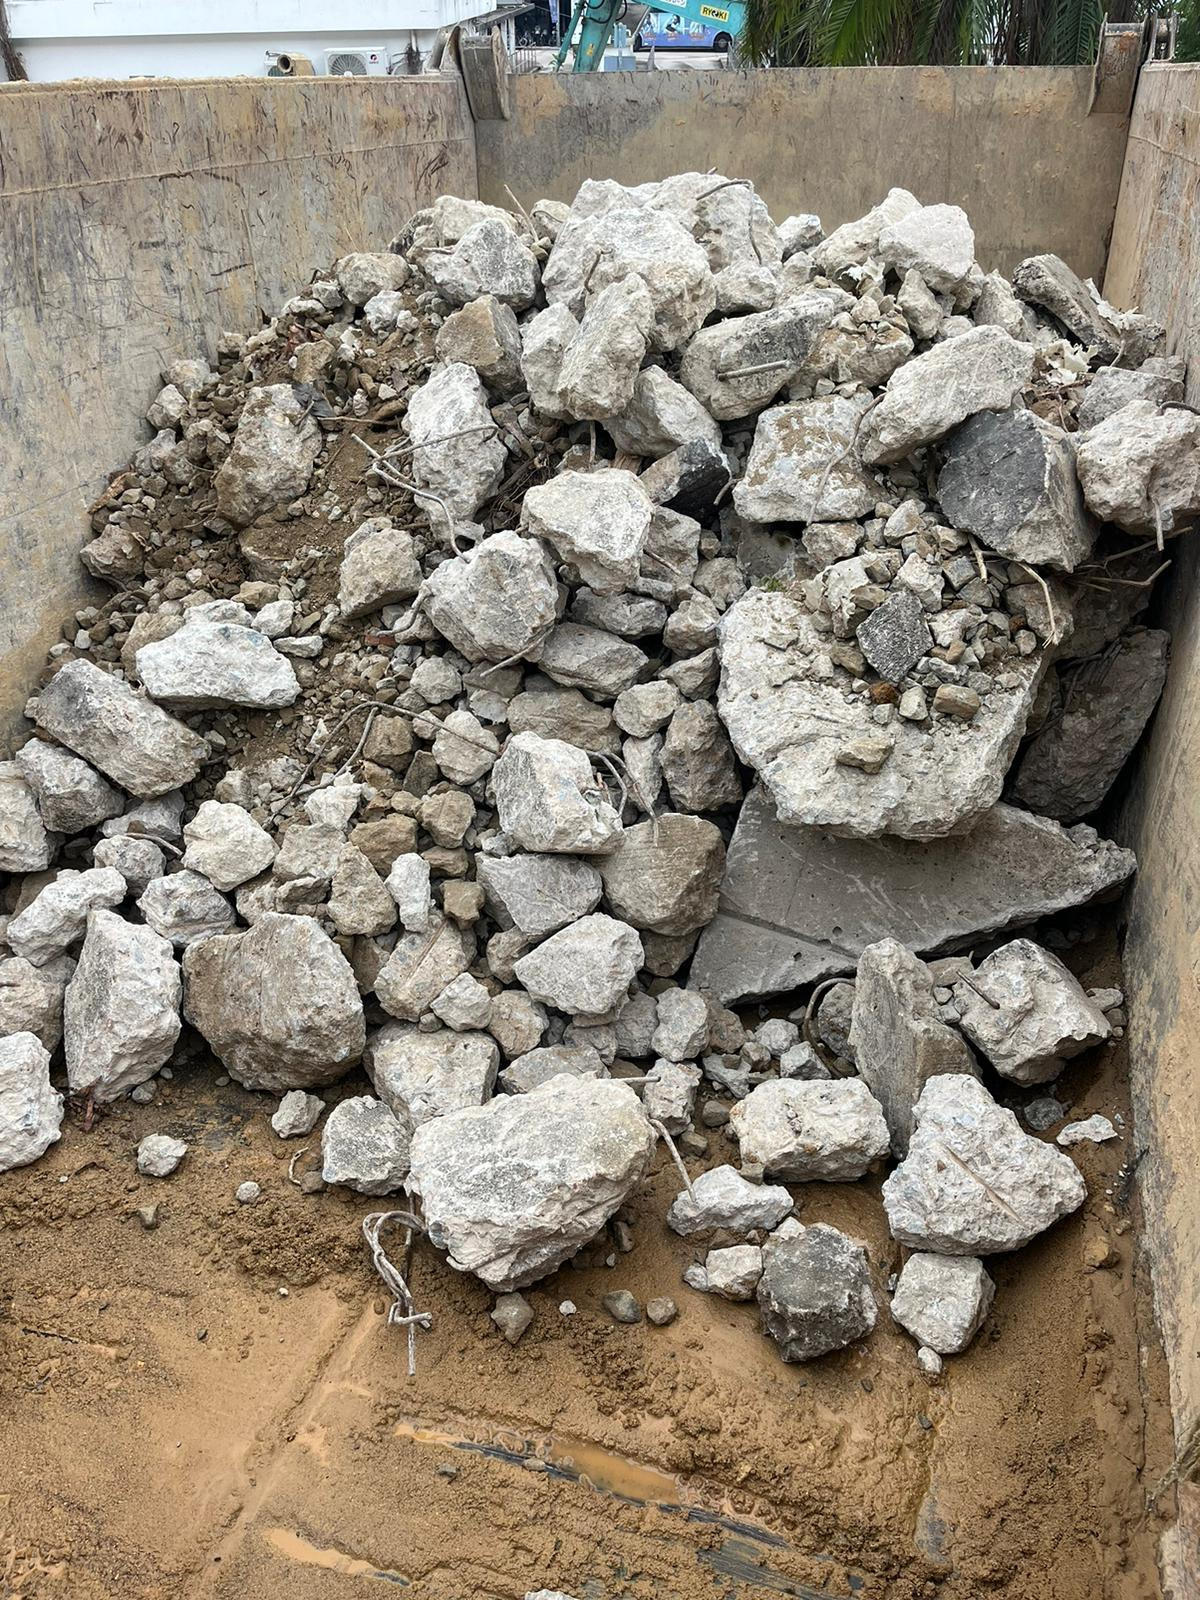dry: (13, 198, 1180, 1325)
